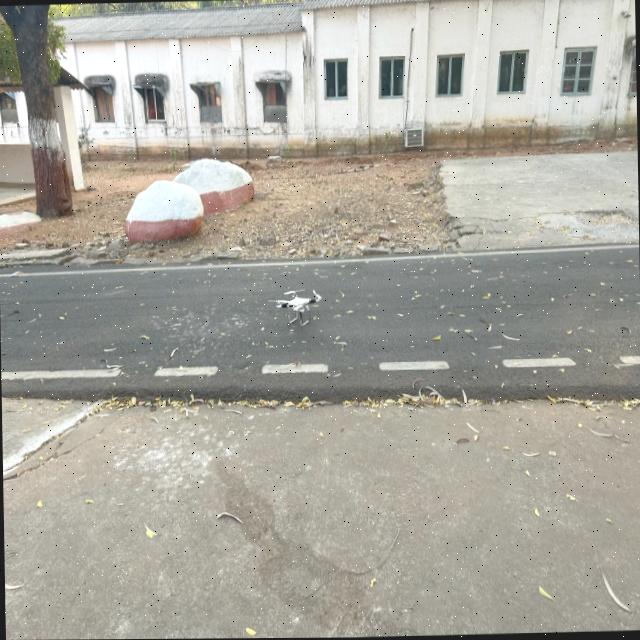drone: (246, 252, 352, 356)
